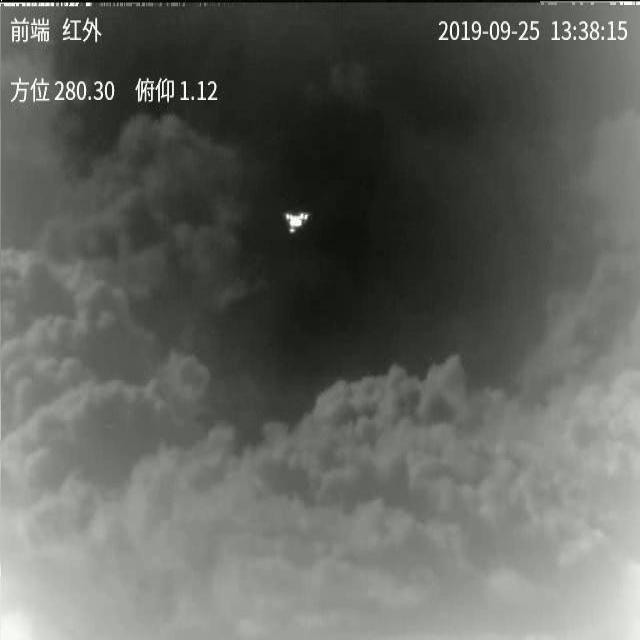drone: (284, 210, 310, 237)
